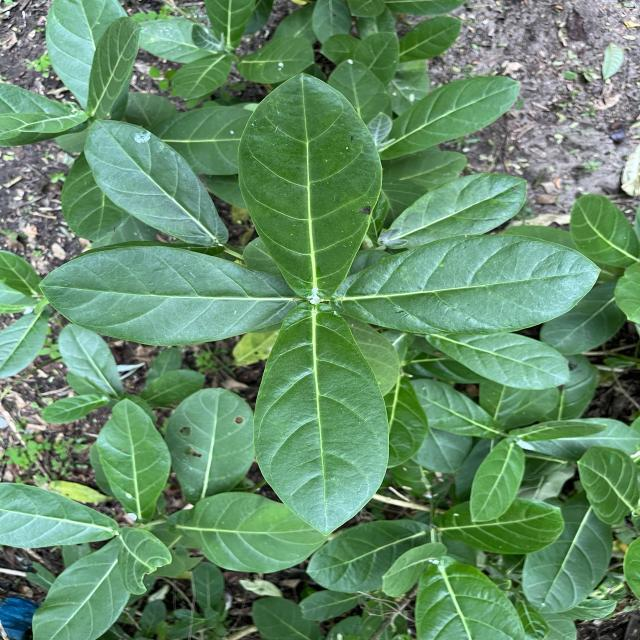Calotropis gigantea: (234, 70, 386, 302), (250, 308, 392, 540), (338, 232, 606, 337), (38, 243, 303, 347), (82, 116, 234, 248), (172, 490, 330, 576), (381, 74, 523, 160), (166, 386, 261, 500), (522, 509, 616, 616), (28, 548, 136, 638), (96, 397, 172, 521), (423, 329, 572, 391), (469, 438, 526, 524)
